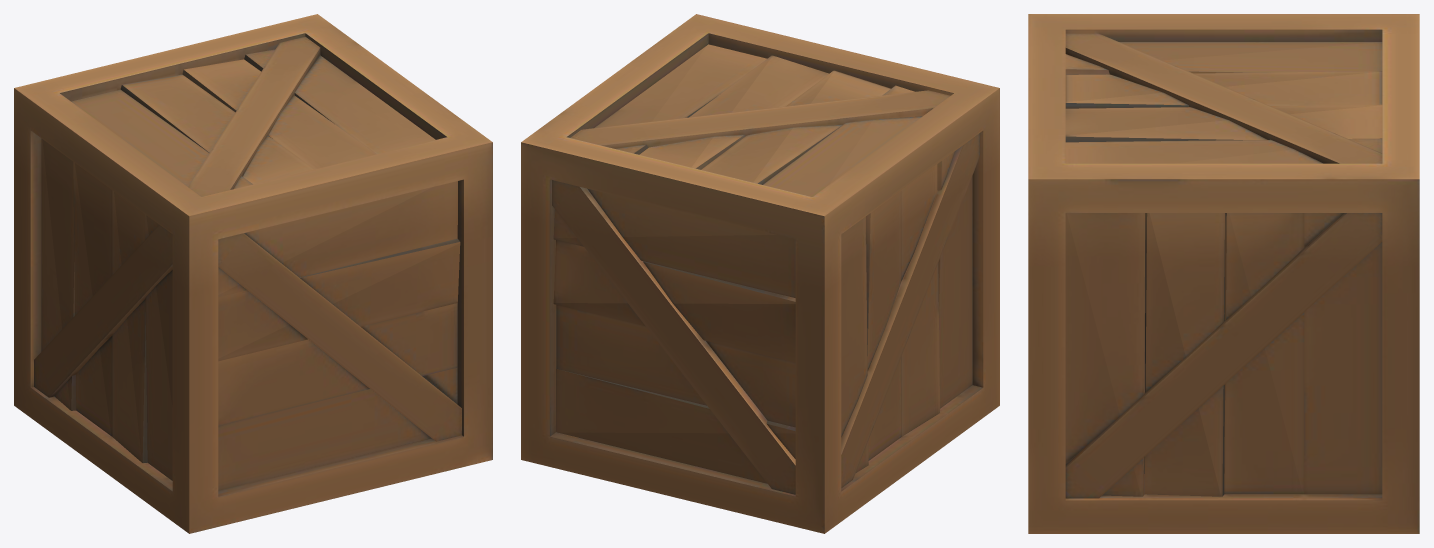
The model's file is Wooden_Box.gltf.
3 renders of one model, left to right at view 1: azimuth 30°, elevation 25°; view 2: azimuth 150°, elevation 25°; view 3: azimuth 270°, elevation 25°, orthographic. The views are drawn at different scales.
Visible parts, largest first — view 1: Wooden_Box_Model.001; view 2: Wooden_Box_Model.001; view 3: Wooden_Box_Model.001.
Boxes of the visible parts, <box> form: Wooden_Box_Model.001: <box>14,14,492,533</box>; Wooden_Box_Model.001: <box>521,14,999,533</box>; Wooden_Box_Model.001: <box>1028,14,1419,533</box>.
Bounding box in the file's own units: 1 × 1 × 1.
1 material, 1 textured.
